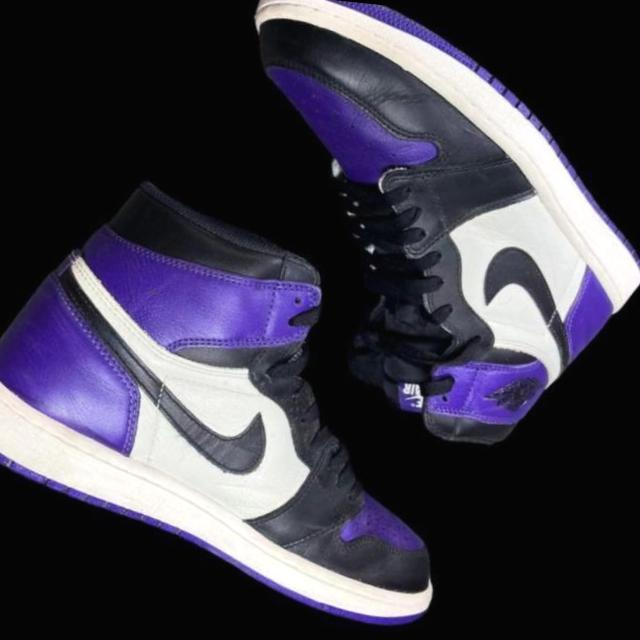nike_original_jordan: (0, 124, 583, 640), (81, 0, 640, 498)
